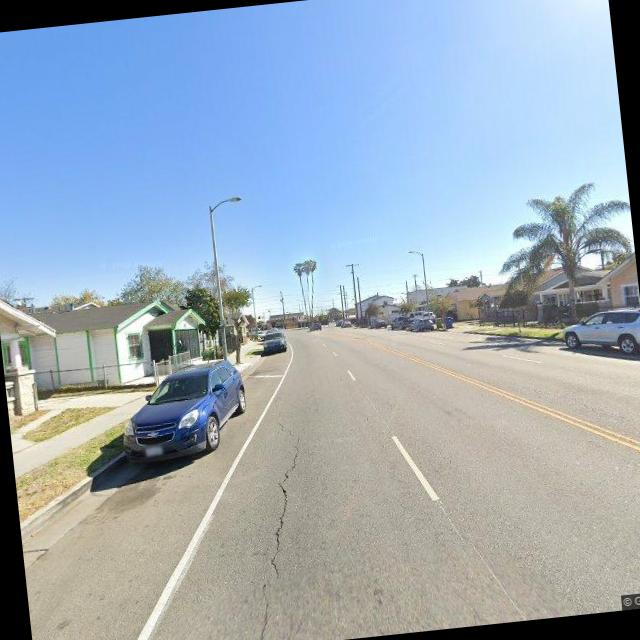crack: (223, 423, 319, 640)
